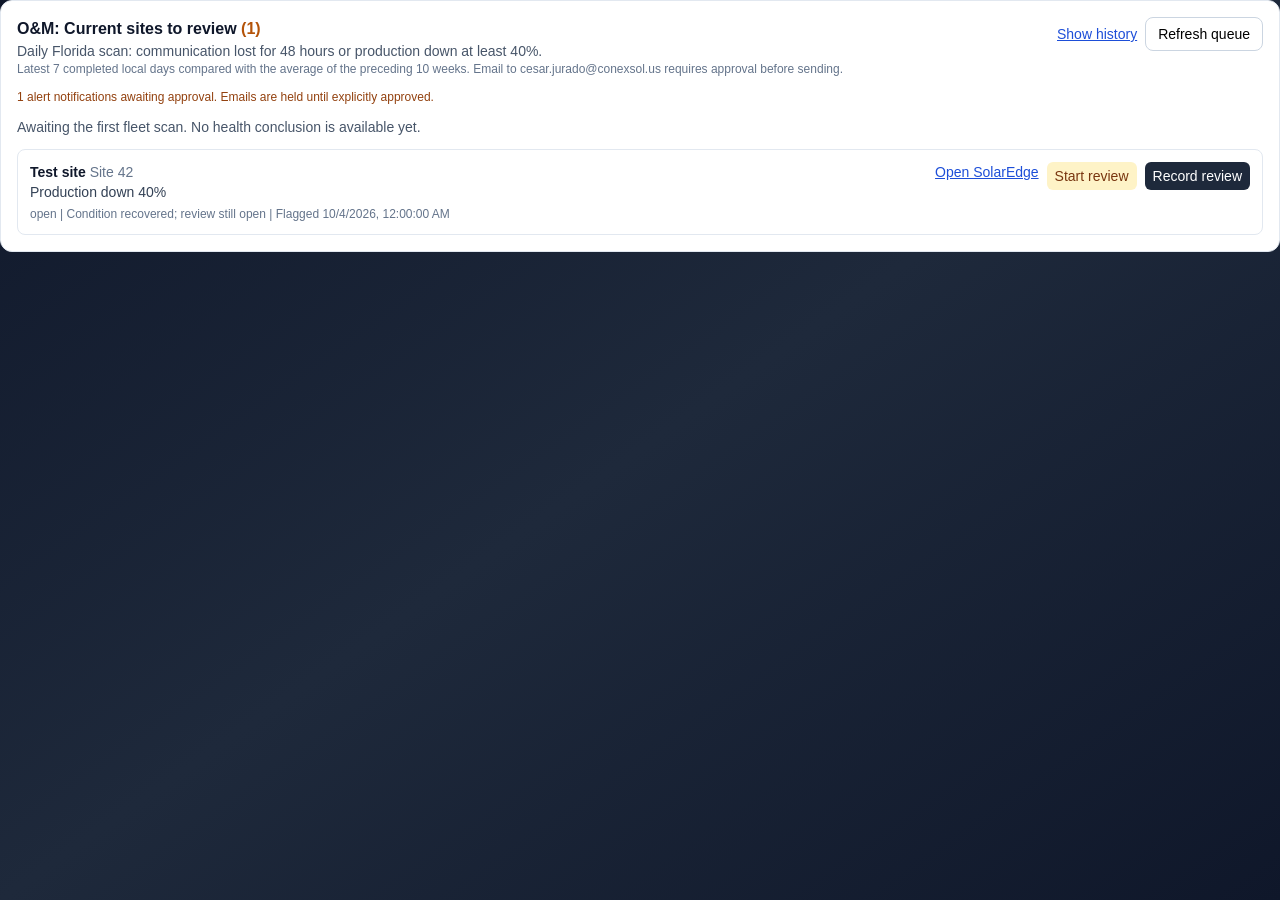
production review queue interactions › requires notes, completes a review and submits the selected incident
Click the button "Record review": coordinates (1197, 176) x1=1144 y1=162 x2=1250 y2=190
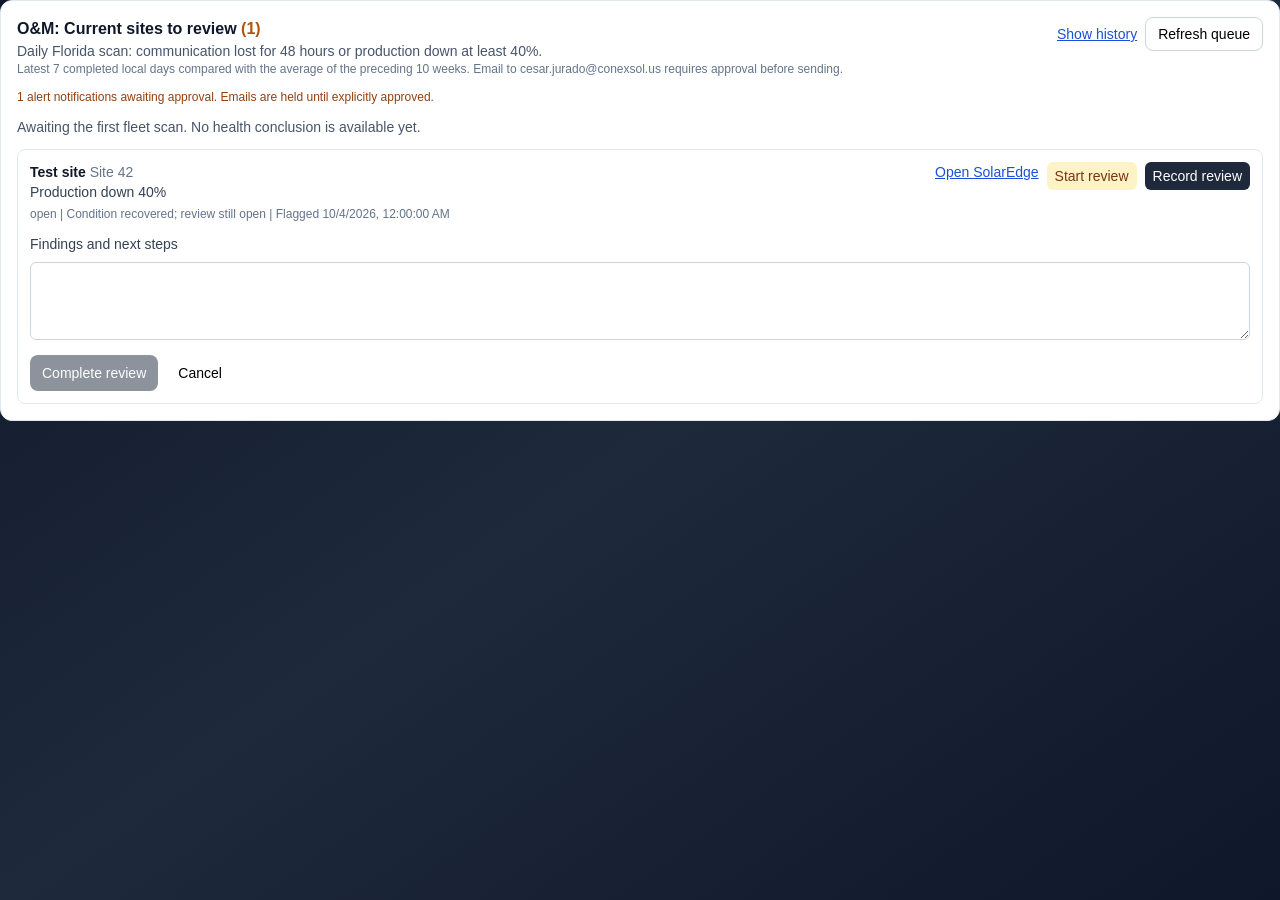
Check: the button "Complete review" is disabled, box x1=30 y1=355 x2=158 y2=391
In the text box labelled "Findings and next steps": coordinates (640, 301) x1=30 y1=262 x2=1250 y2=340, type "Weather checked. Follow up tomorrow."
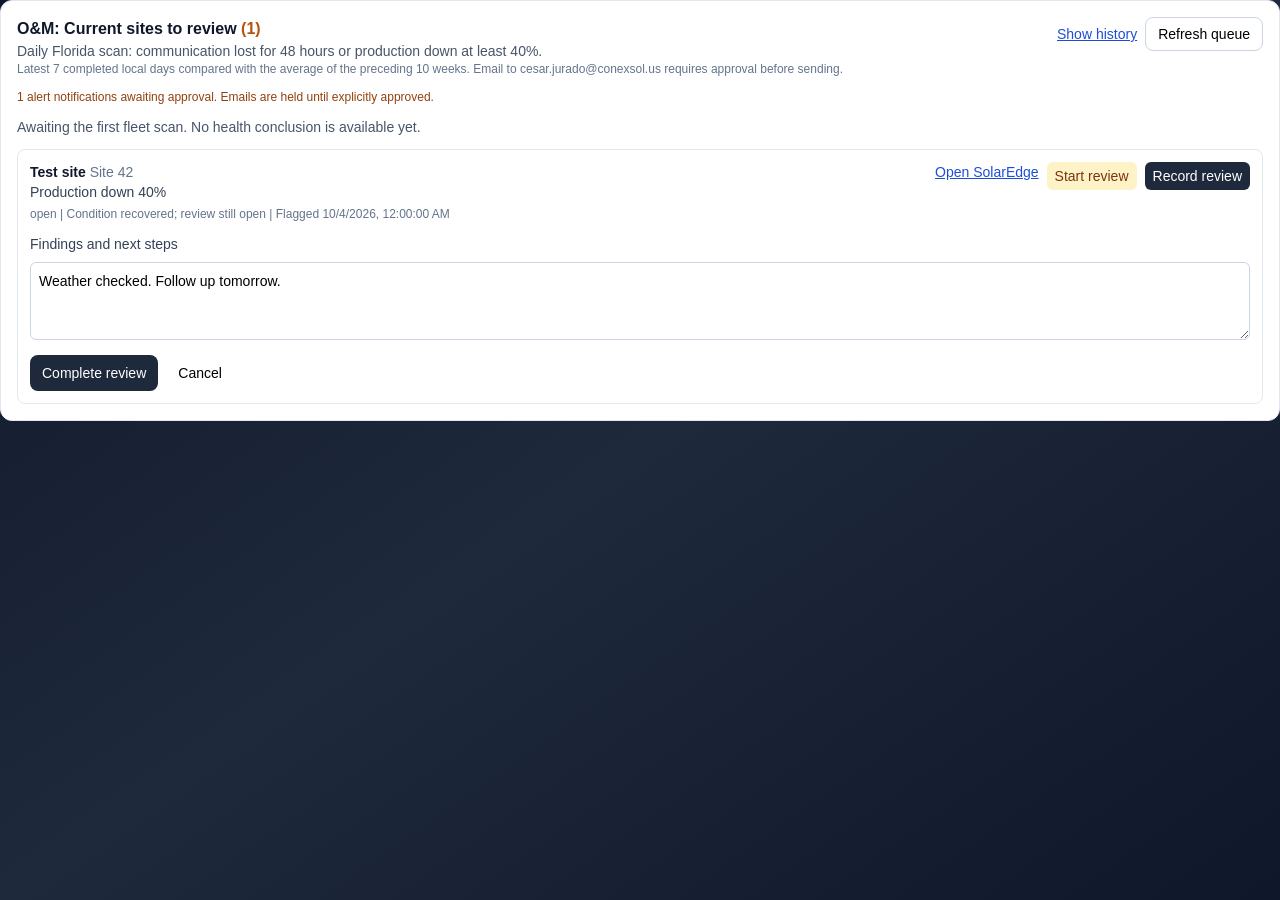
Check: the button "Complete review" is enabled, box x1=30 y1=355 x2=158 y2=391
Submit the form, box x1=30 y1=234 x2=1250 y2=391
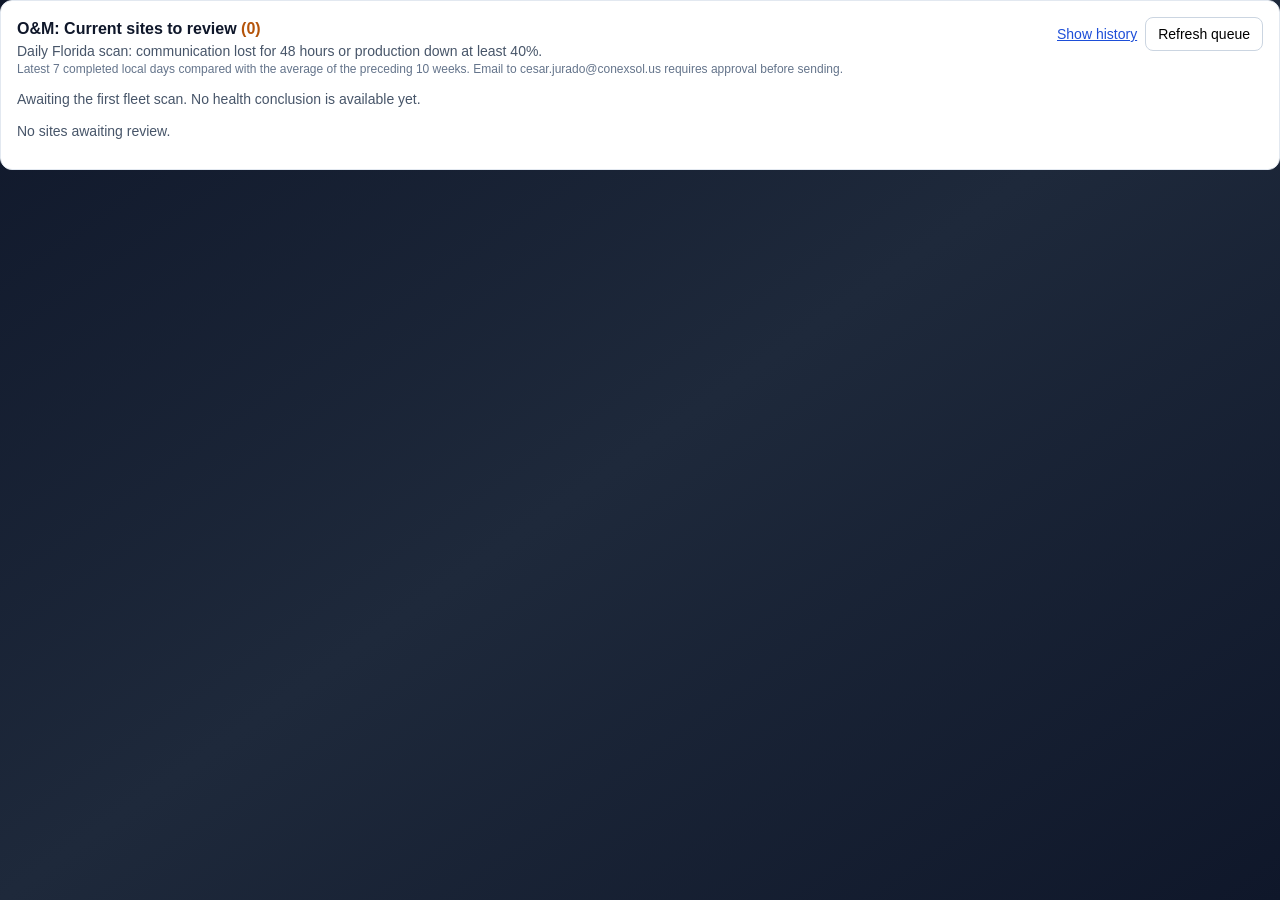
Check: the text "No sites awaiting review." is shown, box x1=17 y1=123 x2=170 y2=139
